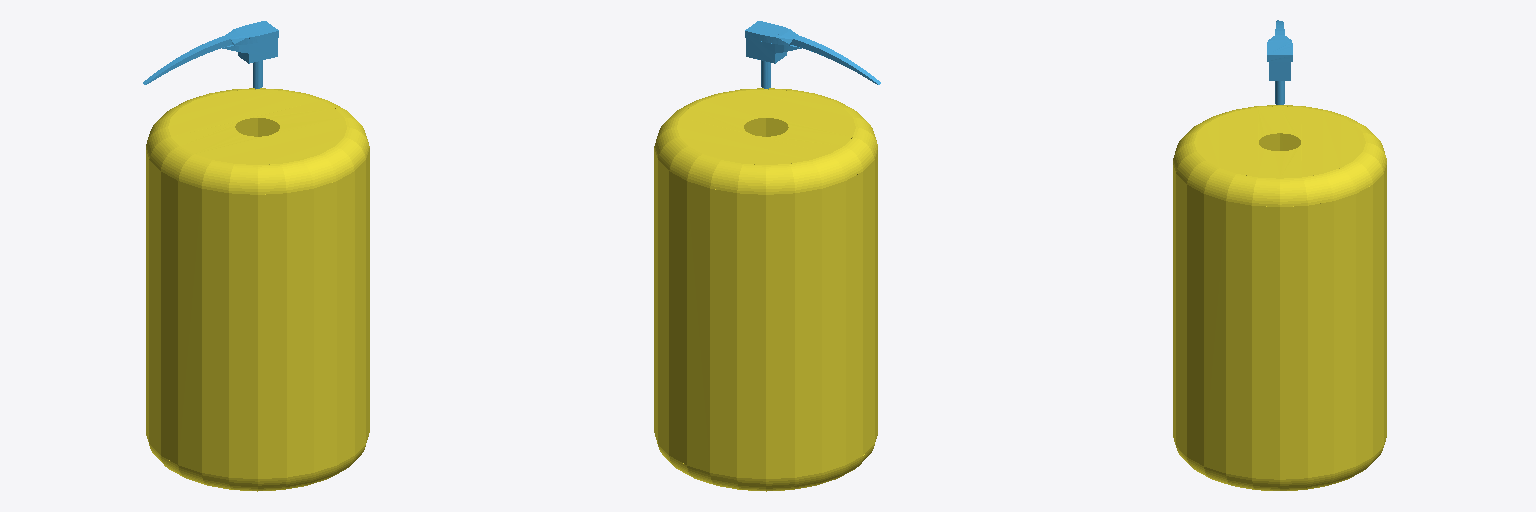
The robot description file, URDF, robot "partnet_d352a7410547373c4cd1f145ee534e3":
<?xml version="1.0" ?>
<robot name="partnet_d352a7410547373c4cd1f145ee534e3">
	<link name="base"/>
	<link name="link_0">
		<visual name="pressing_lid-1">
			<origin xyz="-0.010114 0 0.0017155000000000017"/>
			<geometry>
				<mesh filename="textured_objs/original-8.obj"/>
			</geometry>
		</visual>
		<visual name="pressing_lid-1">
			<origin xyz="-0.010114 0 0.0017155000000000017"/>
			<geometry>
				<mesh filename="textured_objs/original-7.obj"/>
			</geometry>
		</visual>
		<collision>
			<origin xyz="-0.010114 0 0.0017155000000000017"/>
			<geometry>
				<mesh filename="textured_objs/original-8.obj"/>
			</geometry>
		</collision>
		<collision>
			<origin xyz="-0.010114 0 0.0017155000000000017"/>
			<geometry>
				<mesh filename="textured_objs/original-7.obj"/>
			</geometry>
		</collision>
	</link>
	<joint name="joint_0" type="continuous">
		<origin xyz="0.0 0 0.0"/>
		<axis xyz="0 1 0"/>
		<child link="link_0"/>
		<parent link="link_0_helper"/>
	</joint>
	<link name="link_1">
		<visual name="head-3">
			<origin xyz="-0.010113999999999984 0 0.0017153497284326247"/>
			<geometry>
				<mesh filename="textured_objs/original-9.obj"/>
			</geometry>
		</visual>
		<collision>
			<origin xyz="-0.010113999999999984 0 0.0017153497284326247"/>
			<geometry>
				<mesh filename="textured_objs/original-9.obj"/>
			</geometry>
		</collision>
	</link>
	<joint name="joint_1" type="continuous">
		<origin xyz="0.0 0 0.0"/>
		<axis xyz="0 -1 0"/>
		<child link="link_1"/>
		<parent link="link_1_helper"/>
	</joint>
	<link name="link_2">
		<visual name="base_body-4">
			<origin xyz="0 0 0"/>
			<geometry>
				<mesh filename="textured_objs/original-4.obj"/>
			</geometry>
		</visual>
		<visual name="base_body-4">
			<origin xyz="0 0 0"/>
			<geometry>
				<mesh filename="textured_objs/original-3.obj"/>
			</geometry>
		</visual>
		<visual name="base_body-4">
			<origin xyz="0 0 0"/>
			<geometry>
				<mesh filename="textured_objs/original-2.obj"/>
			</geometry>
		</visual>
		<visual name="base_body-4">
			<origin xyz="0 0 0"/>
			<geometry>
				<mesh filename="textured_objs/original-5.obj"/>
			</geometry>
		</visual>
		<visual name="base_body-4">
			<origin xyz="0 0 0"/>
			<geometry>
				<mesh filename="textured_objs/original-6.obj"/>
			</geometry>
		</visual>
		<visual name="base_body-4">
			<origin xyz="0 0 0"/>
			<geometry>
				<mesh filename="textured_objs/original-1.obj"/>
			</geometry>
		</visual>
		<collision>
			<origin xyz="0 0 0"/>
			<geometry>
				<mesh filename="textured_objs/original-4.obj"/>
			</geometry>
		</collision>
		<collision>
			<origin xyz="0 0 0"/>
			<geometry>
				<mesh filename="textured_objs/original-3.obj"/>
			</geometry>
		</collision>
		<collision>
			<origin xyz="0 0 0"/>
			<geometry>
				<mesh filename="textured_objs/original-2.obj"/>
			</geometry>
		</collision>
		<collision>
			<origin xyz="0 0 0"/>
			<geometry>
				<mesh filename="textured_objs/original-5.obj"/>
			</geometry>
		</collision>
		<collision>
			<origin xyz="0 0 0"/>
			<geometry>
				<mesh filename="textured_objs/original-6.obj"/>
			</geometry>
		</collision>
		<collision>
			<origin xyz="0 0 0"/>
			<geometry>
				<mesh filename="textured_objs/original-1.obj"/>
			</geometry>
		</collision>
	</link>
	<joint name="joint_2" type="fixed">
		<origin rpy="1.570796326794897 0 -1.570796326794897" xyz="0 0 0"/>
		<child link="link_2"/>
		<parent link="base"/>
	</joint>
	<link name="link_0_helper"/>
	<joint name="joint_3" type="prismatic">
		<origin xyz="1.5612511283791264e-17 0 -1.5027156737706937e-07"/>
		<axis xyz="0 -1 0"/>
		<child link="link_0_helper"/>
		<parent link="link_1"/>
		<limit lower="0" upper="0.12"/>
	</joint>
	<link name="link_1_helper"/>
	<joint name="joint_4" type="prismatic">
		<origin xyz="0.010113999999999984 0 -0.0017153497284326247"/>
		<axis xyz="0 1 0"/>
		<child link="link_1_helper"/>
		<parent link="link_2"/>
		<limit lower="0" upper="0.020000000000000018"/>
	</joint>
</robot>

--- Render facts (derived) ---
3 views of the same robot in one strip: view 1: azimuth 30°, elevation 25°; view 2: azimuth 150°, elevation 25°; view 3: azimuth 270°, elevation 25° (orthographic).
Model partnet_d352a7410547373c4cd1f145ee534e3 with 6 links and 5 joints (2 continuous, 2 prismatic, 1 fixed), rooted at base, posed all joints at 0.
Visible links, largest first — view 1: link_2, link_0; view 2: link_2, link_0; view 3: link_2, link_0.
Boxes of the visible links, bbox=[...] form: link_2: bbox=[146, 88, 369, 491]; link_0: bbox=[143, 21, 278, 88]; link_2: bbox=[654, 88, 877, 491]; link_0: bbox=[745, 21, 880, 88]; link_2: bbox=[1173, 105, 1386, 490]; link_0: bbox=[1267, 20, 1292, 104].
Size in the robot's own frame: 0.8766 by 0.8061 by 1.68 metres.
8 mesh visuals loaded from 9 distinct referenced files (8 OBJ); not drawn: 1 (reference not matched to a file when rendering).
